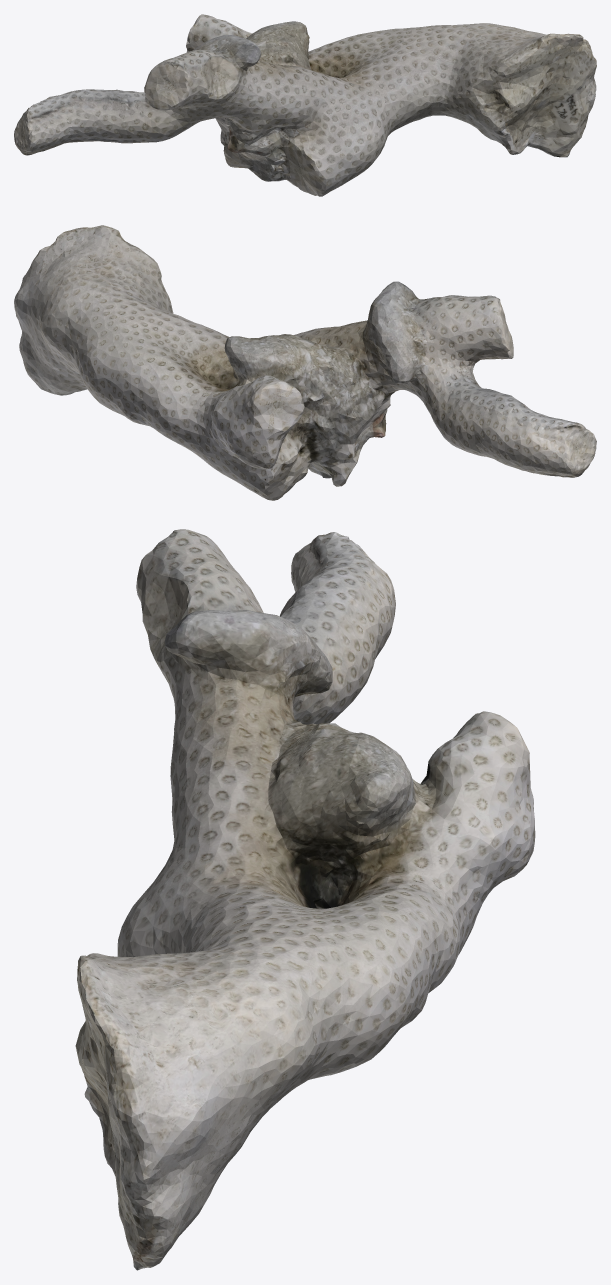
The model's file is PRI_Septastea1_1pc.obj.
The picture shows the model from 3 angles, top to bottom: view 1: azimuth 30°, elevation 25°; view 2: azimuth 150°, elevation 25°; view 3: azimuth 270°, elevation 25°; orthographic projection. The views are drawn at different scales.
Parts seen in each view (by area): view 1: PRI_Septastea1; view 2: PRI_Septastea1; view 3: PRI_Septastea1.
Part boxes in pixels (box(x1,y1,x2,y2)): PRI_Septastea1: box(14, 14, 596, 196); PRI_Septastea1: box(14, 225, 596, 500); PRI_Septastea1: box(75, 529, 535, 1270).
Bounding box in the file's own units: 1.99 × 0.6533 × 0.7454.
